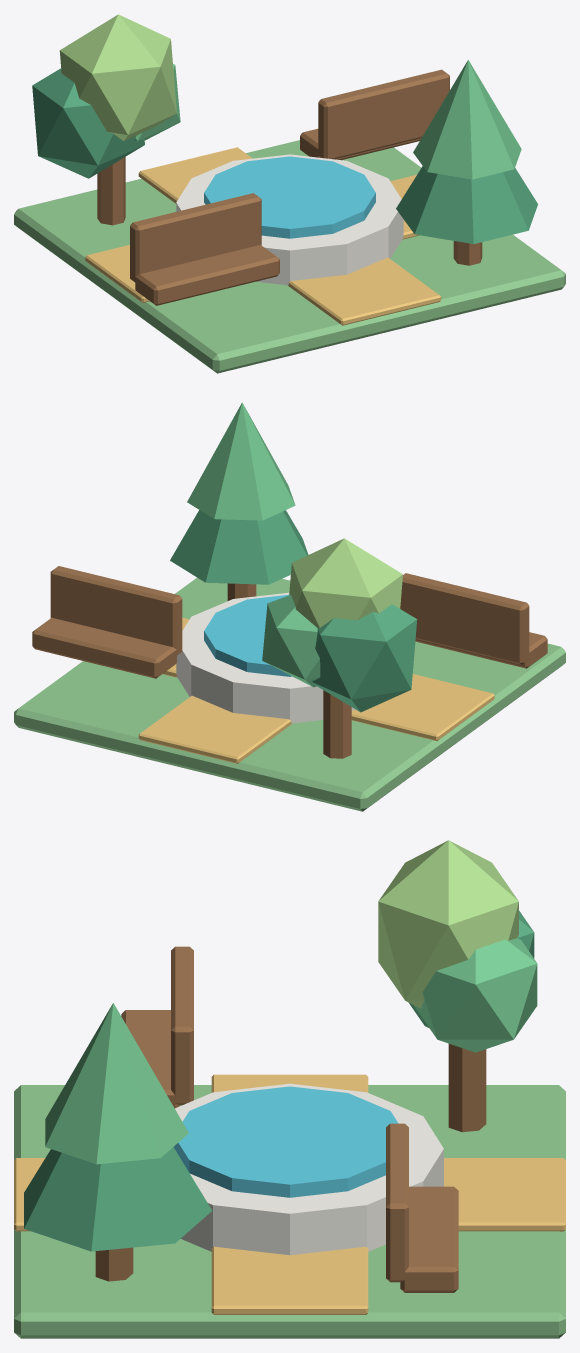
File: PARK_1x1_004.glb
3 renders of one model, top to bottom at view 1: azimuth 30°, elevation 25°; view 2: azimuth 150°, elevation 25°; view 3: azimuth 270°, elevation 25°, orthographic. The views are drawn at different scales.
Parts seen in each view (by area): view 1: PARK_1x1_004_Visual; view 2: PARK_1x1_004_Visual; view 3: PARK_1x1_004_Visual.
Boxes of the visible parts, left/top/right/bottom form: PARK_1x1_004_Visual: left=14, top=14, right=565, bottom=373; PARK_1x1_004_Visual: left=14, top=402, right=565, bottom=811; PARK_1x1_004_Visual: left=14, top=840, right=565, bottom=1338.
Size of what is drawn, in the model's own units: 2.12 by 1.18 by 1.9.
